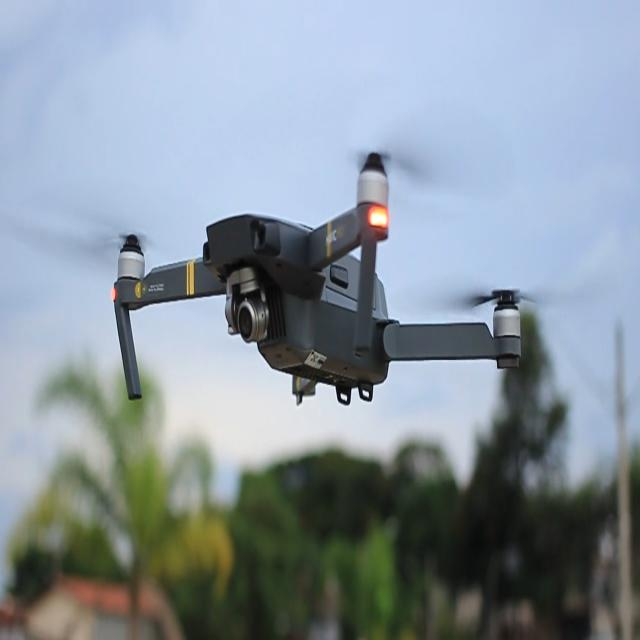drone: (4, 147, 581, 407)
